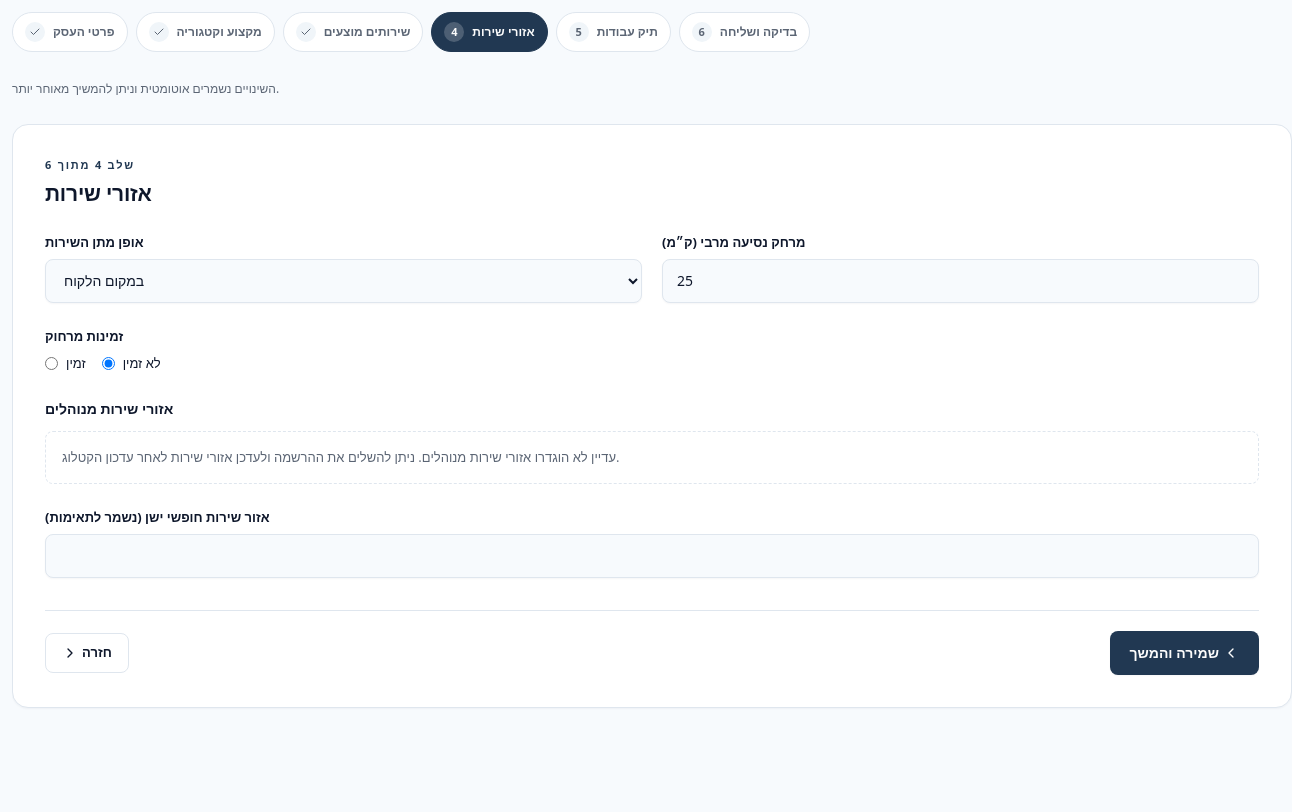
Test: SupplierOnboardingWizard stage validation › advances stage 4 when no managed service areas are available
This screenshot has width=1292, height=812.
Expected: the text "עדיין לא הוגדרו אזורי שירות מנוהלים. ניתן להשלים את ההרשמה ולעדכן אזורי שירות לאחר עדכון הקטלוג." is shown, [62, 448, 620, 466]
What coordinates should you click on to do the following:
click the button "שמירה והמשך"
I would click on:
 (1184, 652)
Its box is [1110, 630, 1259, 674].
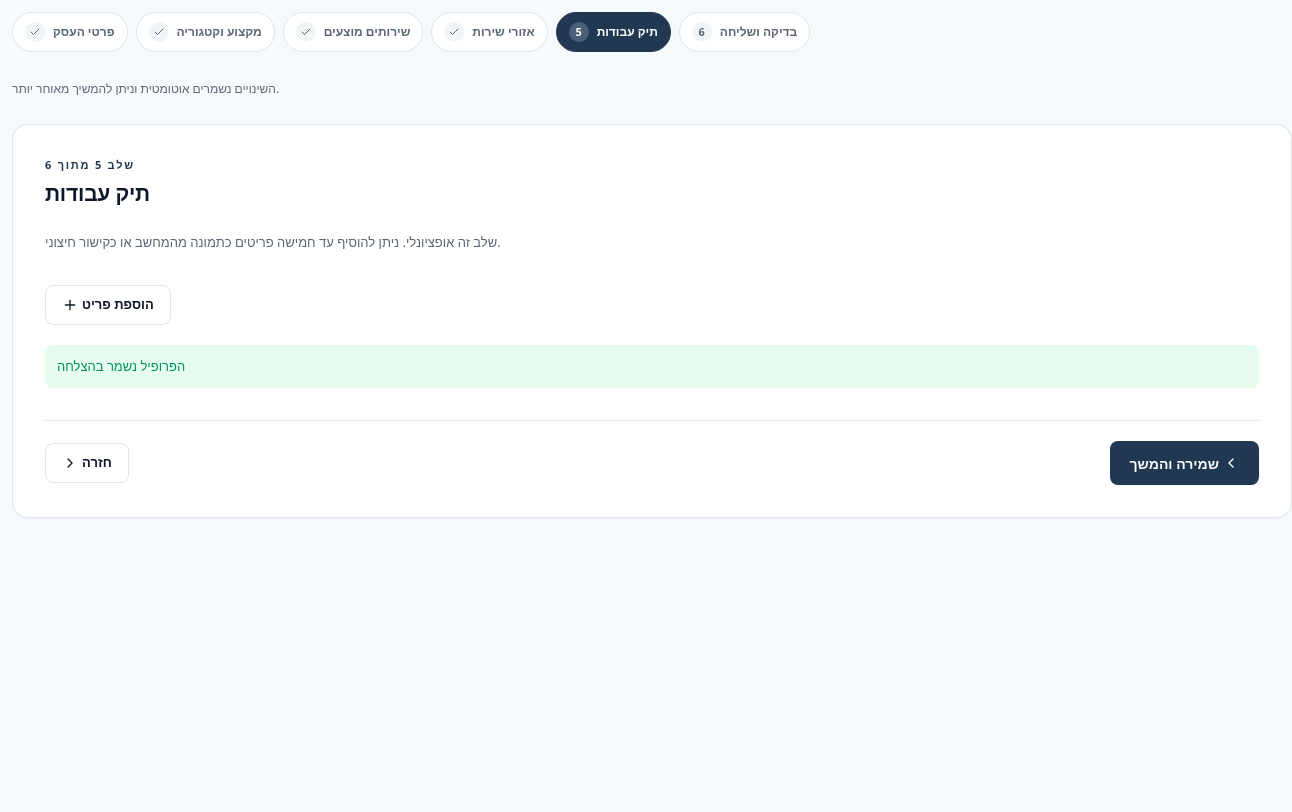
Now the heading "תיק עבודות" is shown, box [45, 178, 150, 206]
